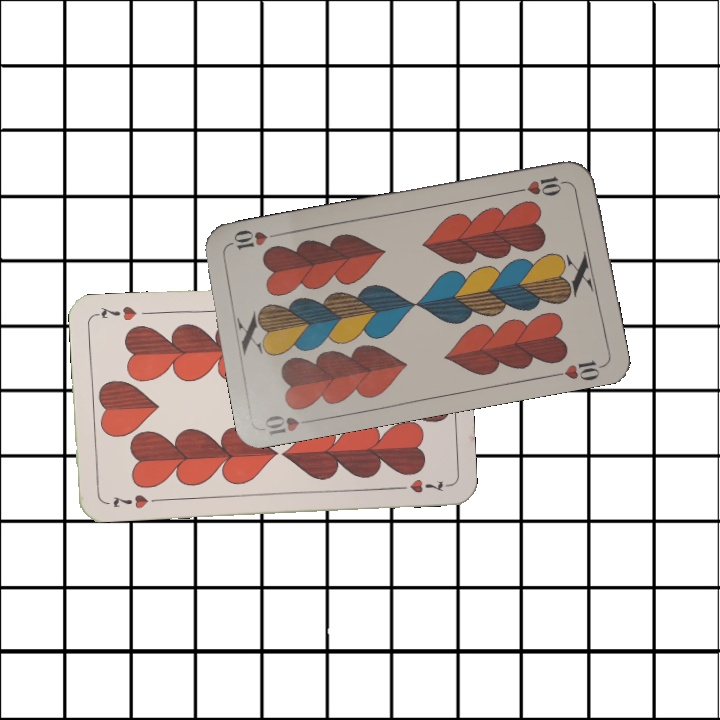H10: (260, 411, 319, 438), (511, 172, 570, 198)
H7: (109, 490, 150, 511)
